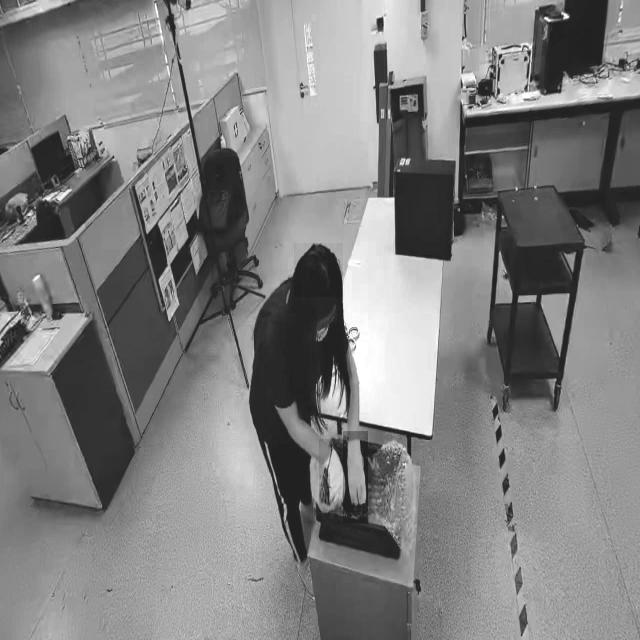hand_glove: (342, 431, 368, 525), (318, 439, 346, 513)
head_nohelmet: (293, 242, 343, 298)
person: (244, 240, 370, 610)
